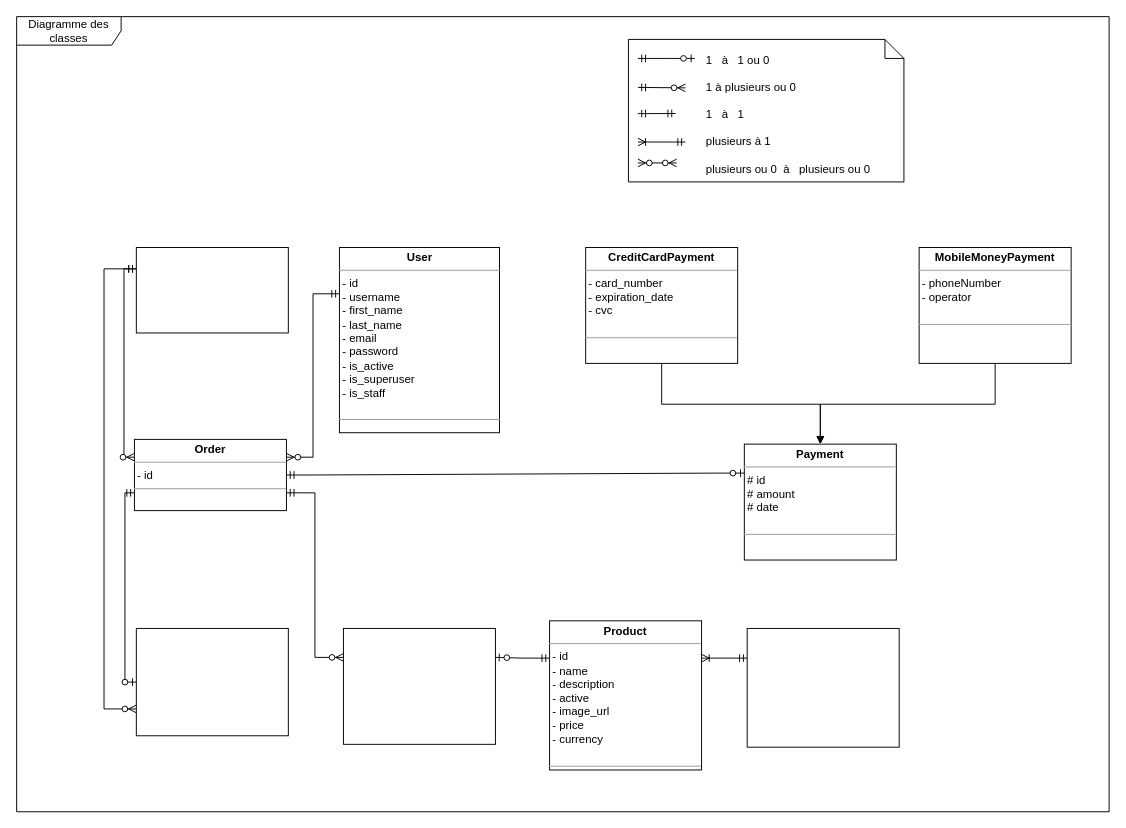
This 1126x828 diagram has some shape labels left out. Each missing label, with the centre of its shape:
Category - id - name - description - active: point (822, 687)
Delivery - id - address - phoneNumber - lat - lon: point (211, 681)
OrderedProduct - id - name - description - active: point (418, 685)
Status - label: point (211, 290)
